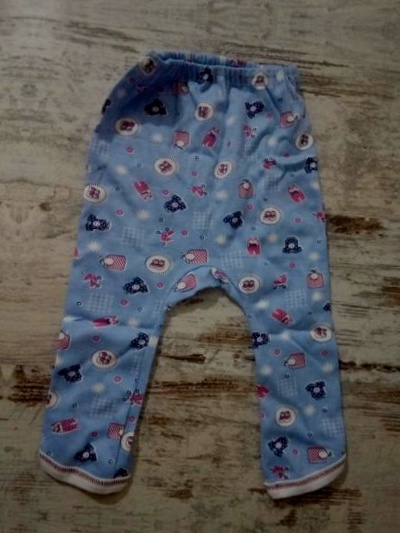Pants: (22, 25, 394, 520), (0, 0, 9, 490), (62, 0, 400, 11)
